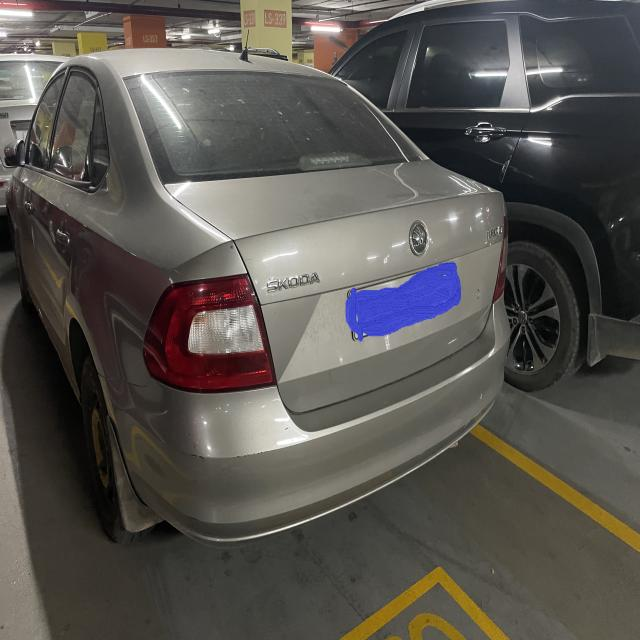scratch: (230, 445, 286, 464), (178, 444, 204, 463), (278, 424, 293, 437), (184, 513, 200, 525), (326, 369, 334, 385), (463, 417, 472, 431), (228, 243, 237, 255), (478, 391, 486, 400), (244, 257, 255, 262)
